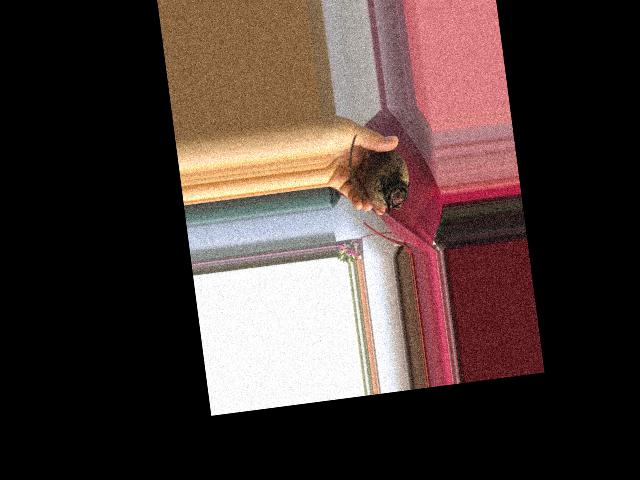beet: (345, 128, 413, 220)
